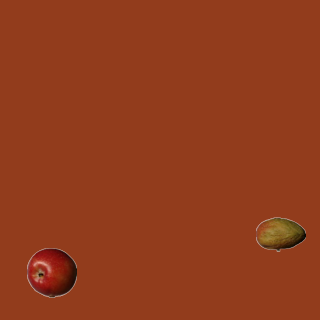Apple Braeburn: (26, 247, 76, 297)
Papaya: (255, 209, 305, 259)
